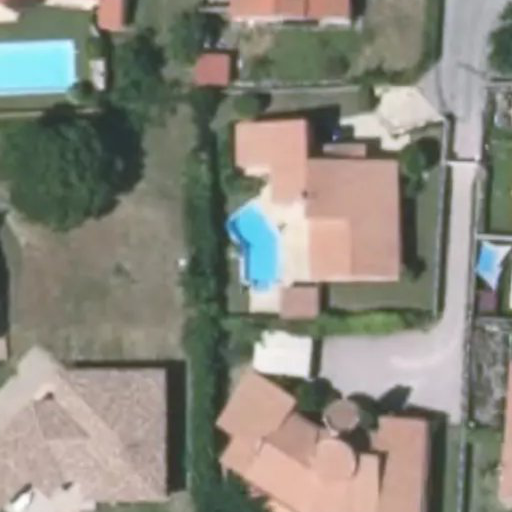pool: (221, 207, 295, 278)
